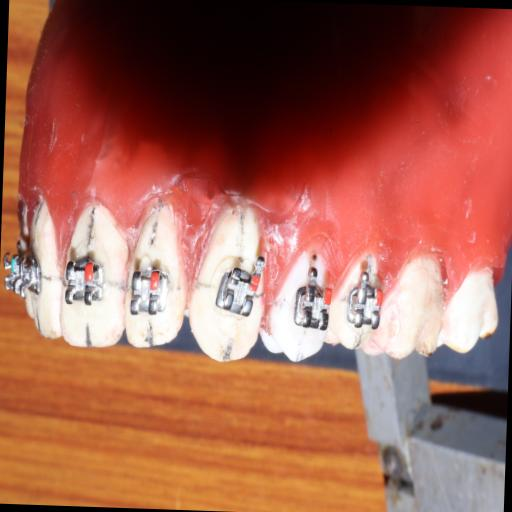incorrect_brace: (214, 259, 263, 319)
